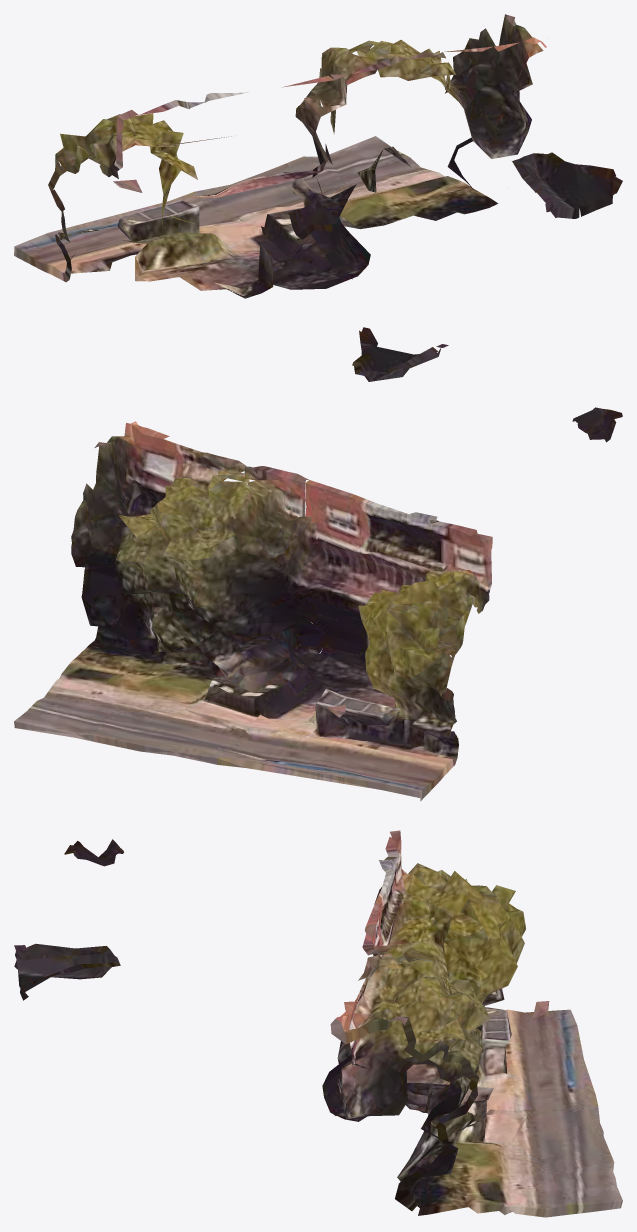
3 views of the same model, one above another, from view 1: azimuth 30°, elevation 25°; view 2: azimuth 150°, elevation 25°; view 3: azimuth 270°, elevation 25° (orthographic).
Parts seen in each view (by area): view 1: Mesh_0; view 2: Mesh_0; view 3: Mesh_0.
Boxes of the visible parts, x1=… form: Mesh_0: x1=14, y1=14, x2=622, y2=298; Mesh_0: x1=14, y1=327, x2=622, y2=801; Mesh_0: x1=14, y1=830, x2=622, y2=1217.
Bounding box in the file's own units: 31.1 × 15.26 × 39.69.
1 material, 1 textured.
